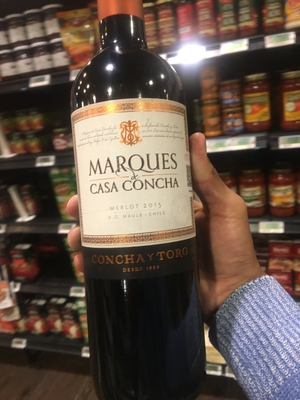marques de casa concha merlot: (72, 12, 208, 367)
